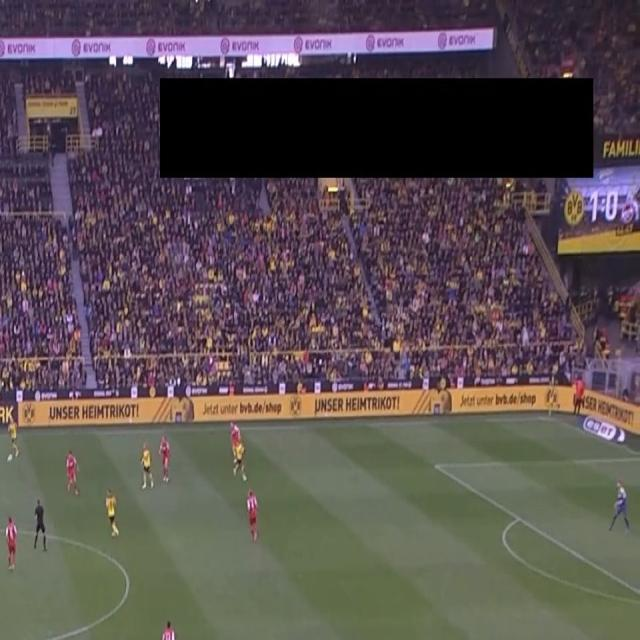ball: (6, 452, 13, 464)
